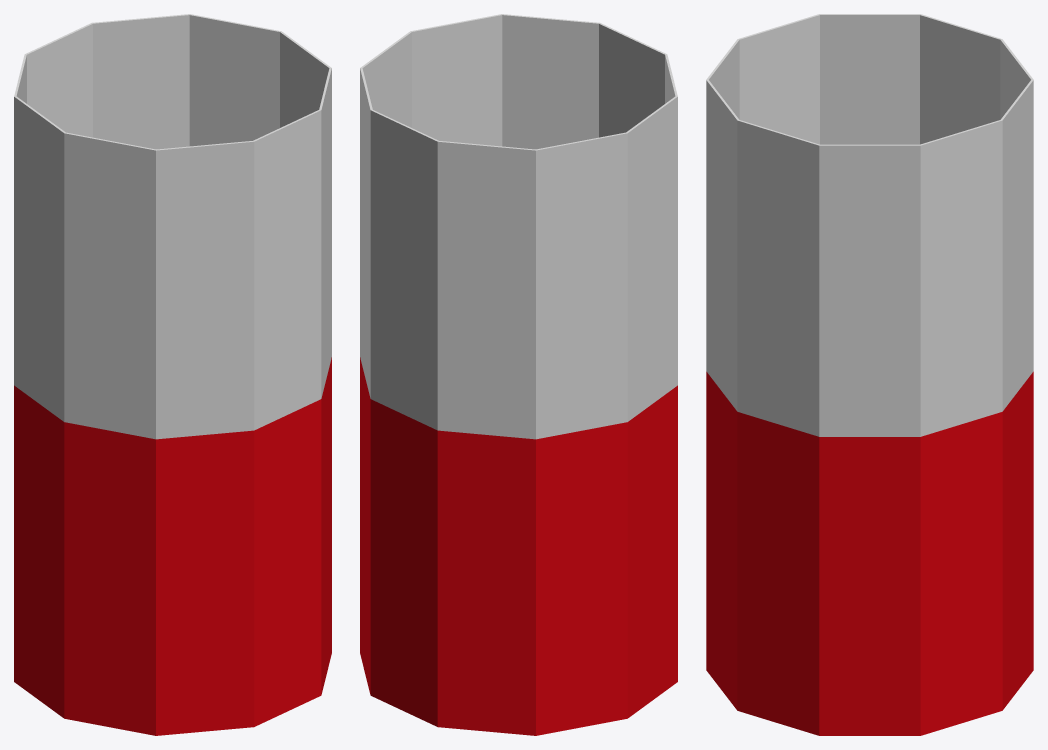
The model's file is Zemin.fbx.
3 views of the same model, side by side, from view 1: azimuth 30°, elevation 25°; view 2: azimuth 150°, elevation 25°; view 3: azimuth 270°, elevation 25° (orthographic).
Parts seen in each view (by area): view 1: Cylinder.002, Cylinder.001; view 2: Cylinder.002, Cylinder.001; view 3: Cylinder.002, Cylinder.001.
Part boxes in pixels (left/top/right/bottom): Cylinder.002: left=14, top=14, right=331, bottom=439; Cylinder.001: left=14, top=357, right=331, bottom=735; Cylinder.002: left=360, top=14, right=677, bottom=439; Cylinder.001: left=360, top=357, right=677, bottom=735; Cylinder.002: left=706, top=14, right=1033, bottom=436; Cylinder.001: left=706, top=371, right=1033, bottom=735.
Bounding box in the file's own units: 951 × 1988 × 1000.
